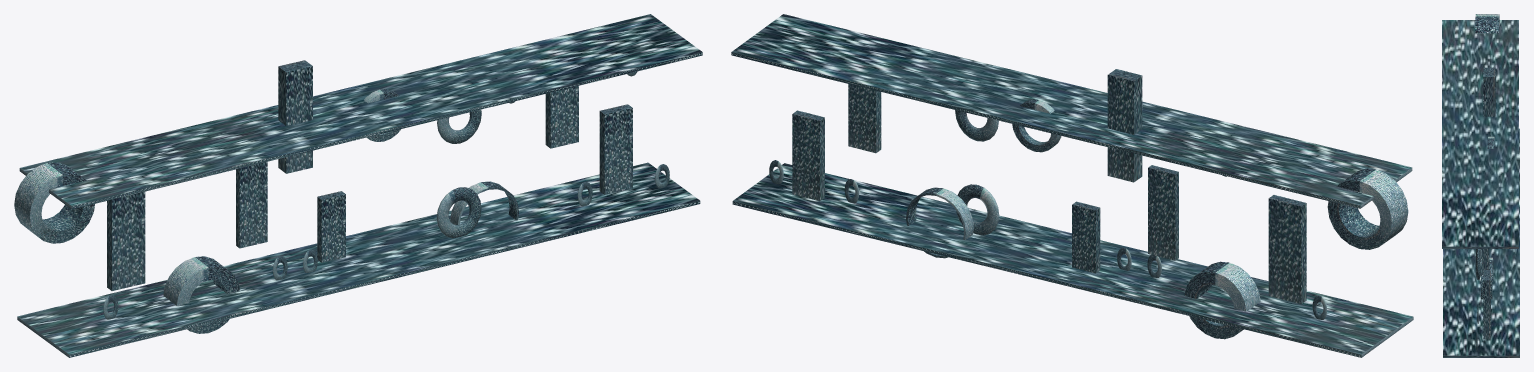
The model's file is room2.obj.
3 views of the same model, side by side, from view 1: azimuth 30°, elevation 25°; view 2: azimuth 150°, elevation 25°; view 3: azimuth 270°, elevation 25° (orthographic). The views are drawn at different scales.
Parts seen in each view (by area): view 1: room2:polySurface57; view 2: room2:polySurface57; view 3: room2:polySurface57.
Part boxes in pixels (box(x1,y1,x2,y2)): room2:polySurface57: box(14, 14, 702, 357); room2:polySurface57: box(731, 14, 1413, 357); room2:polySurface57: box(1442, 14, 1519, 357).
Bounding box in the file's own units: 168 × 58.62 × 23.68.
Materials: 1 (1 with a texture image).
